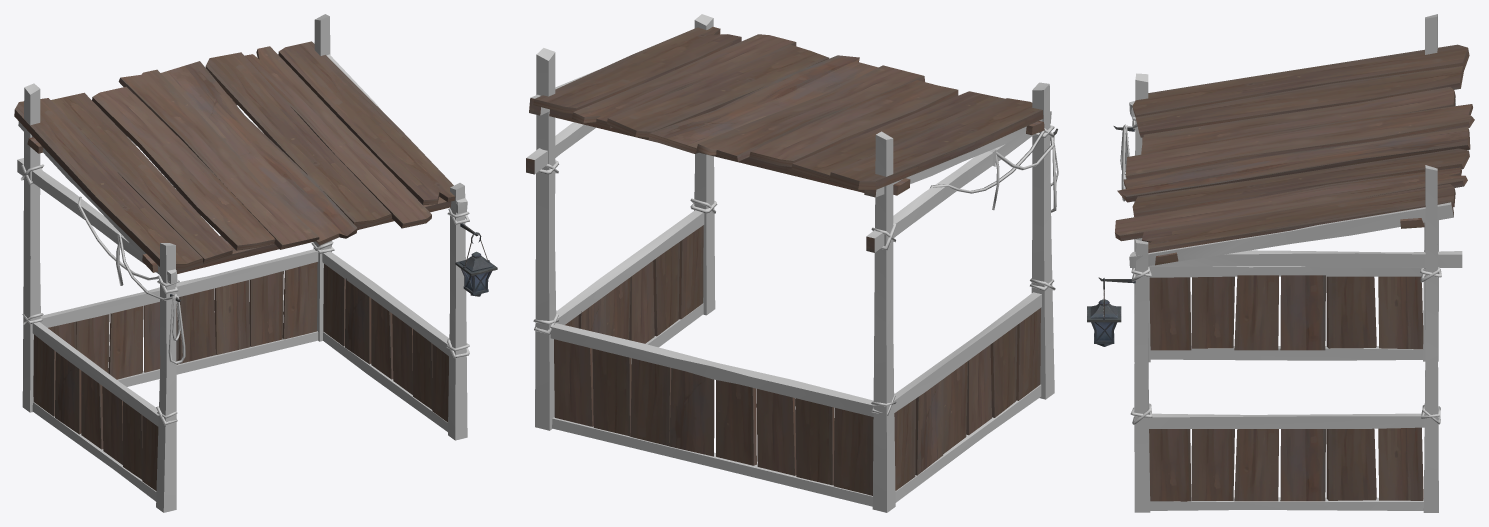
The model's file is Homeworld_Exterior_Common_Thing_Shed_01_Lod0.fbx.
3 views of the same model, side by side, from view 1: azimuth 30°, elevation 25°; view 2: azimuth 150°, elevation 25°; view 3: azimuth 270°, elevation 25° (orthographic). The views are drawn at different scales.
Visible parts, largest first — view 1: Area_ManorProps_Stable02_Lod0; view 2: Area_ManorProps_Stable02_Lod0; view 3: Area_ManorProps_Stable02_Lod0.
Part boxes in pixels (x1=…): Area_ManorProps_Stable02_Lod0: x1=14, y1=14, x2=497, y2=512; Area_ManorProps_Stable02_Lod0: x1=526, y1=14, x2=1058, y2=512; Area_ManorProps_Stable02_Lod0: x1=1087, y1=14, x2=1474, y2=512.
Size of the model in its own units: 3.54 by 3.47 by 3.54.
